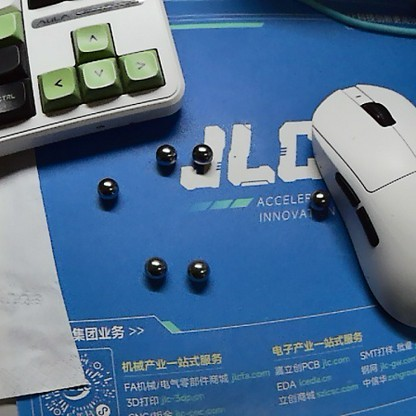ironball: (82, 167, 120, 206), (137, 251, 170, 282), (147, 136, 178, 169), (300, 190, 335, 215), (184, 253, 208, 289), (186, 141, 213, 168)
